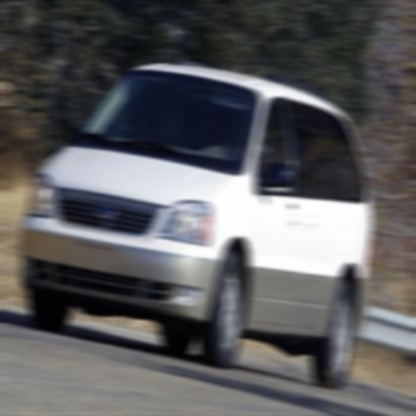Vehicle: (21, 61, 371, 391)
